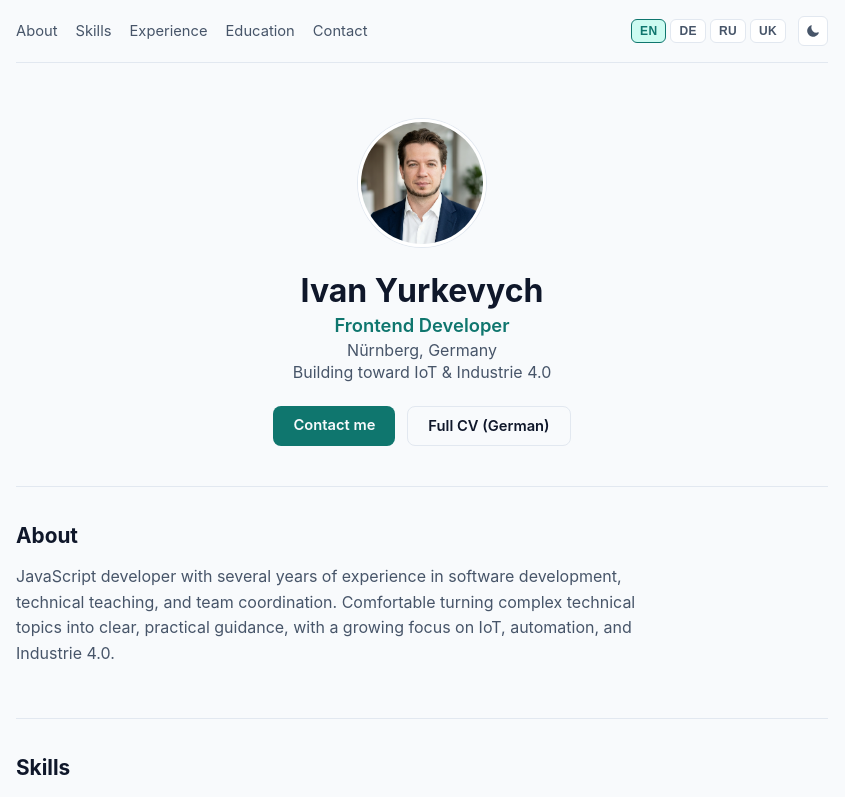
switches all section content when a language button is clicked
What coordinates should you click on to do the following:
click the button "DE"
I would click on:
 (688, 31)
Its box is [670, 19, 706, 43].
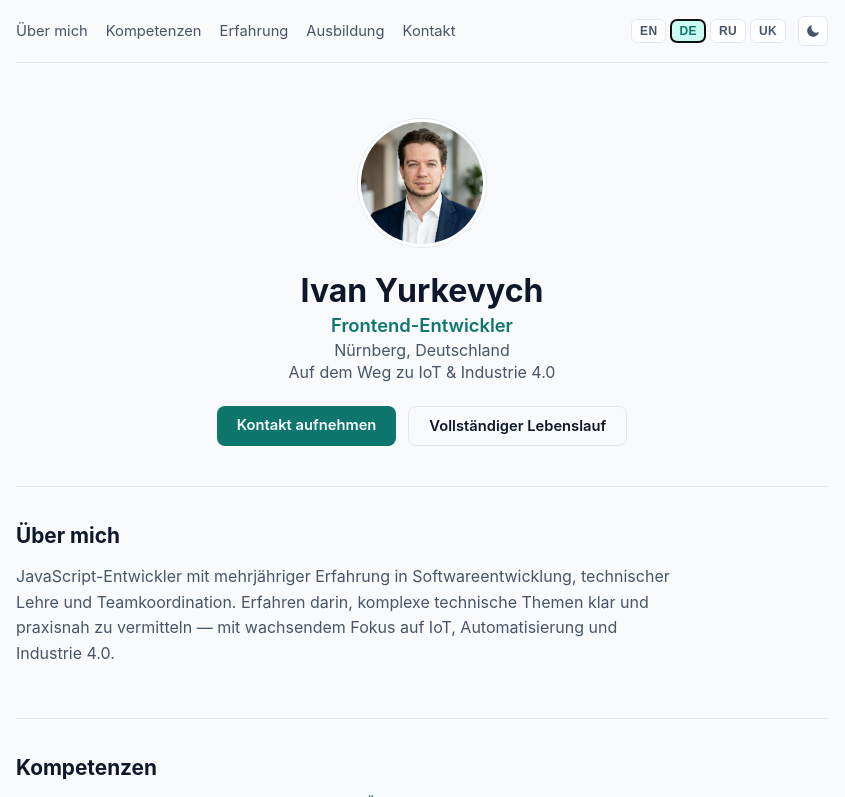
Result: the text "Frontend-Entwickler" is shown at [331, 314, 513, 336]
Result: the text "Nürnberg, Deutschland" is shown at [334, 340, 510, 360]
